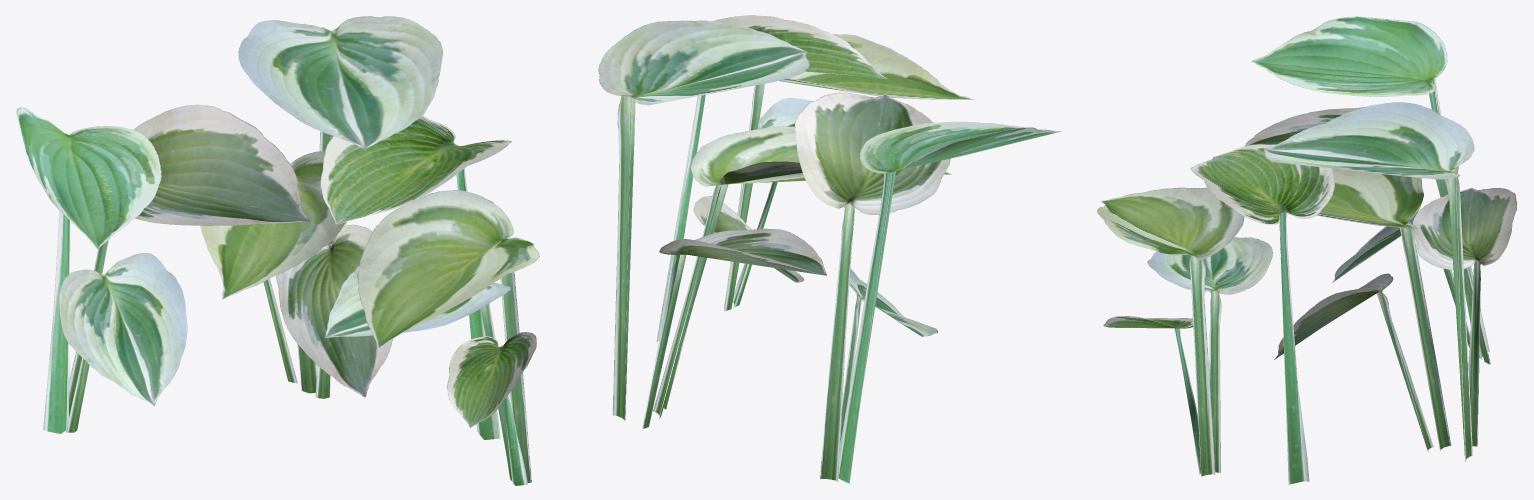
The model's file is plant_small_wg_00_c-corner01.fbx.
The picture shows the model from 3 angles, left to right: view 1: azimuth 30°, elevation 25°; view 2: azimuth 150°, elevation 25°; view 3: azimuth 270°, elevation 25°; orthographic projection. The views are drawn at different scales.
Visible parts, largest first — view 1: plant_small_wg_00_c-corner01; view 2: plant_small_wg_00_c-corner01; view 3: plant_small_wg_00_c-corner01.
Boxes of the visible parts, bbox=[...] form: plant_small_wg_00_c-corner01: bbox=[16, 16, 539, 485]; plant_small_wg_00_c-corner01: bbox=[598, 15, 1061, 485]; plant_small_wg_00_c-corner01: bbox=[1097, 16, 1516, 485].
Size of the model in its own units: 50.97 by 41.69 by 52.02.
1 material, 1 textured.
